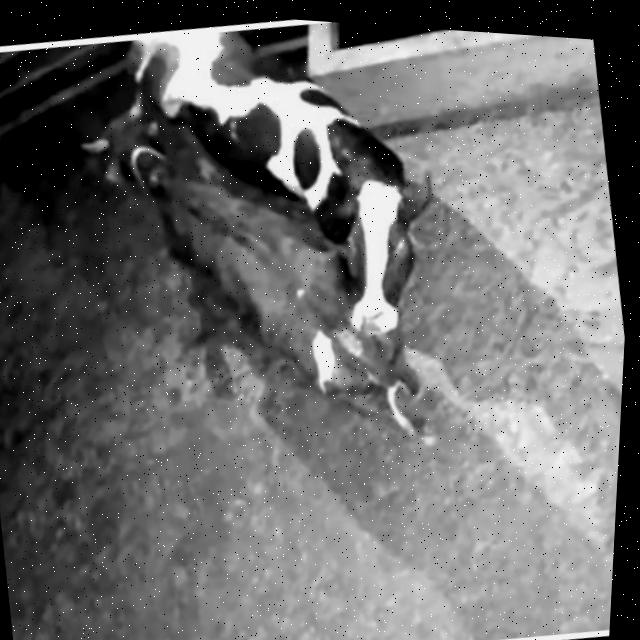propping: (292, 149, 467, 379)
